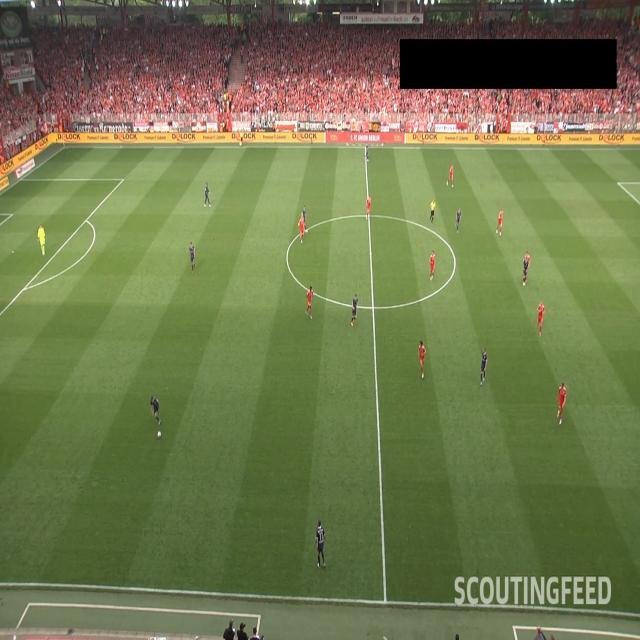ball: (157, 429, 161, 439)
